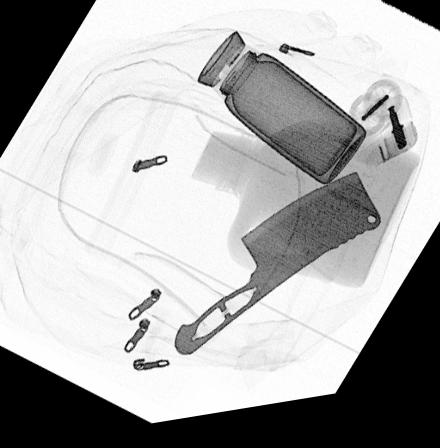Knife: (170, 182, 381, 362)
